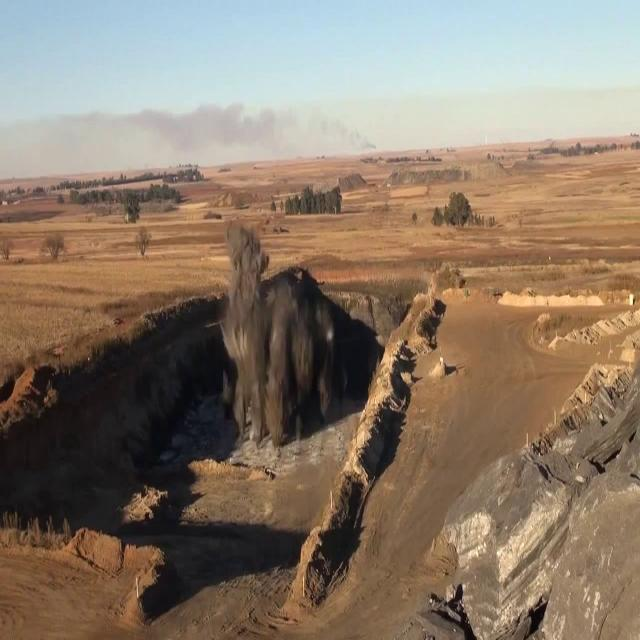explosion: (190, 151, 505, 587)
